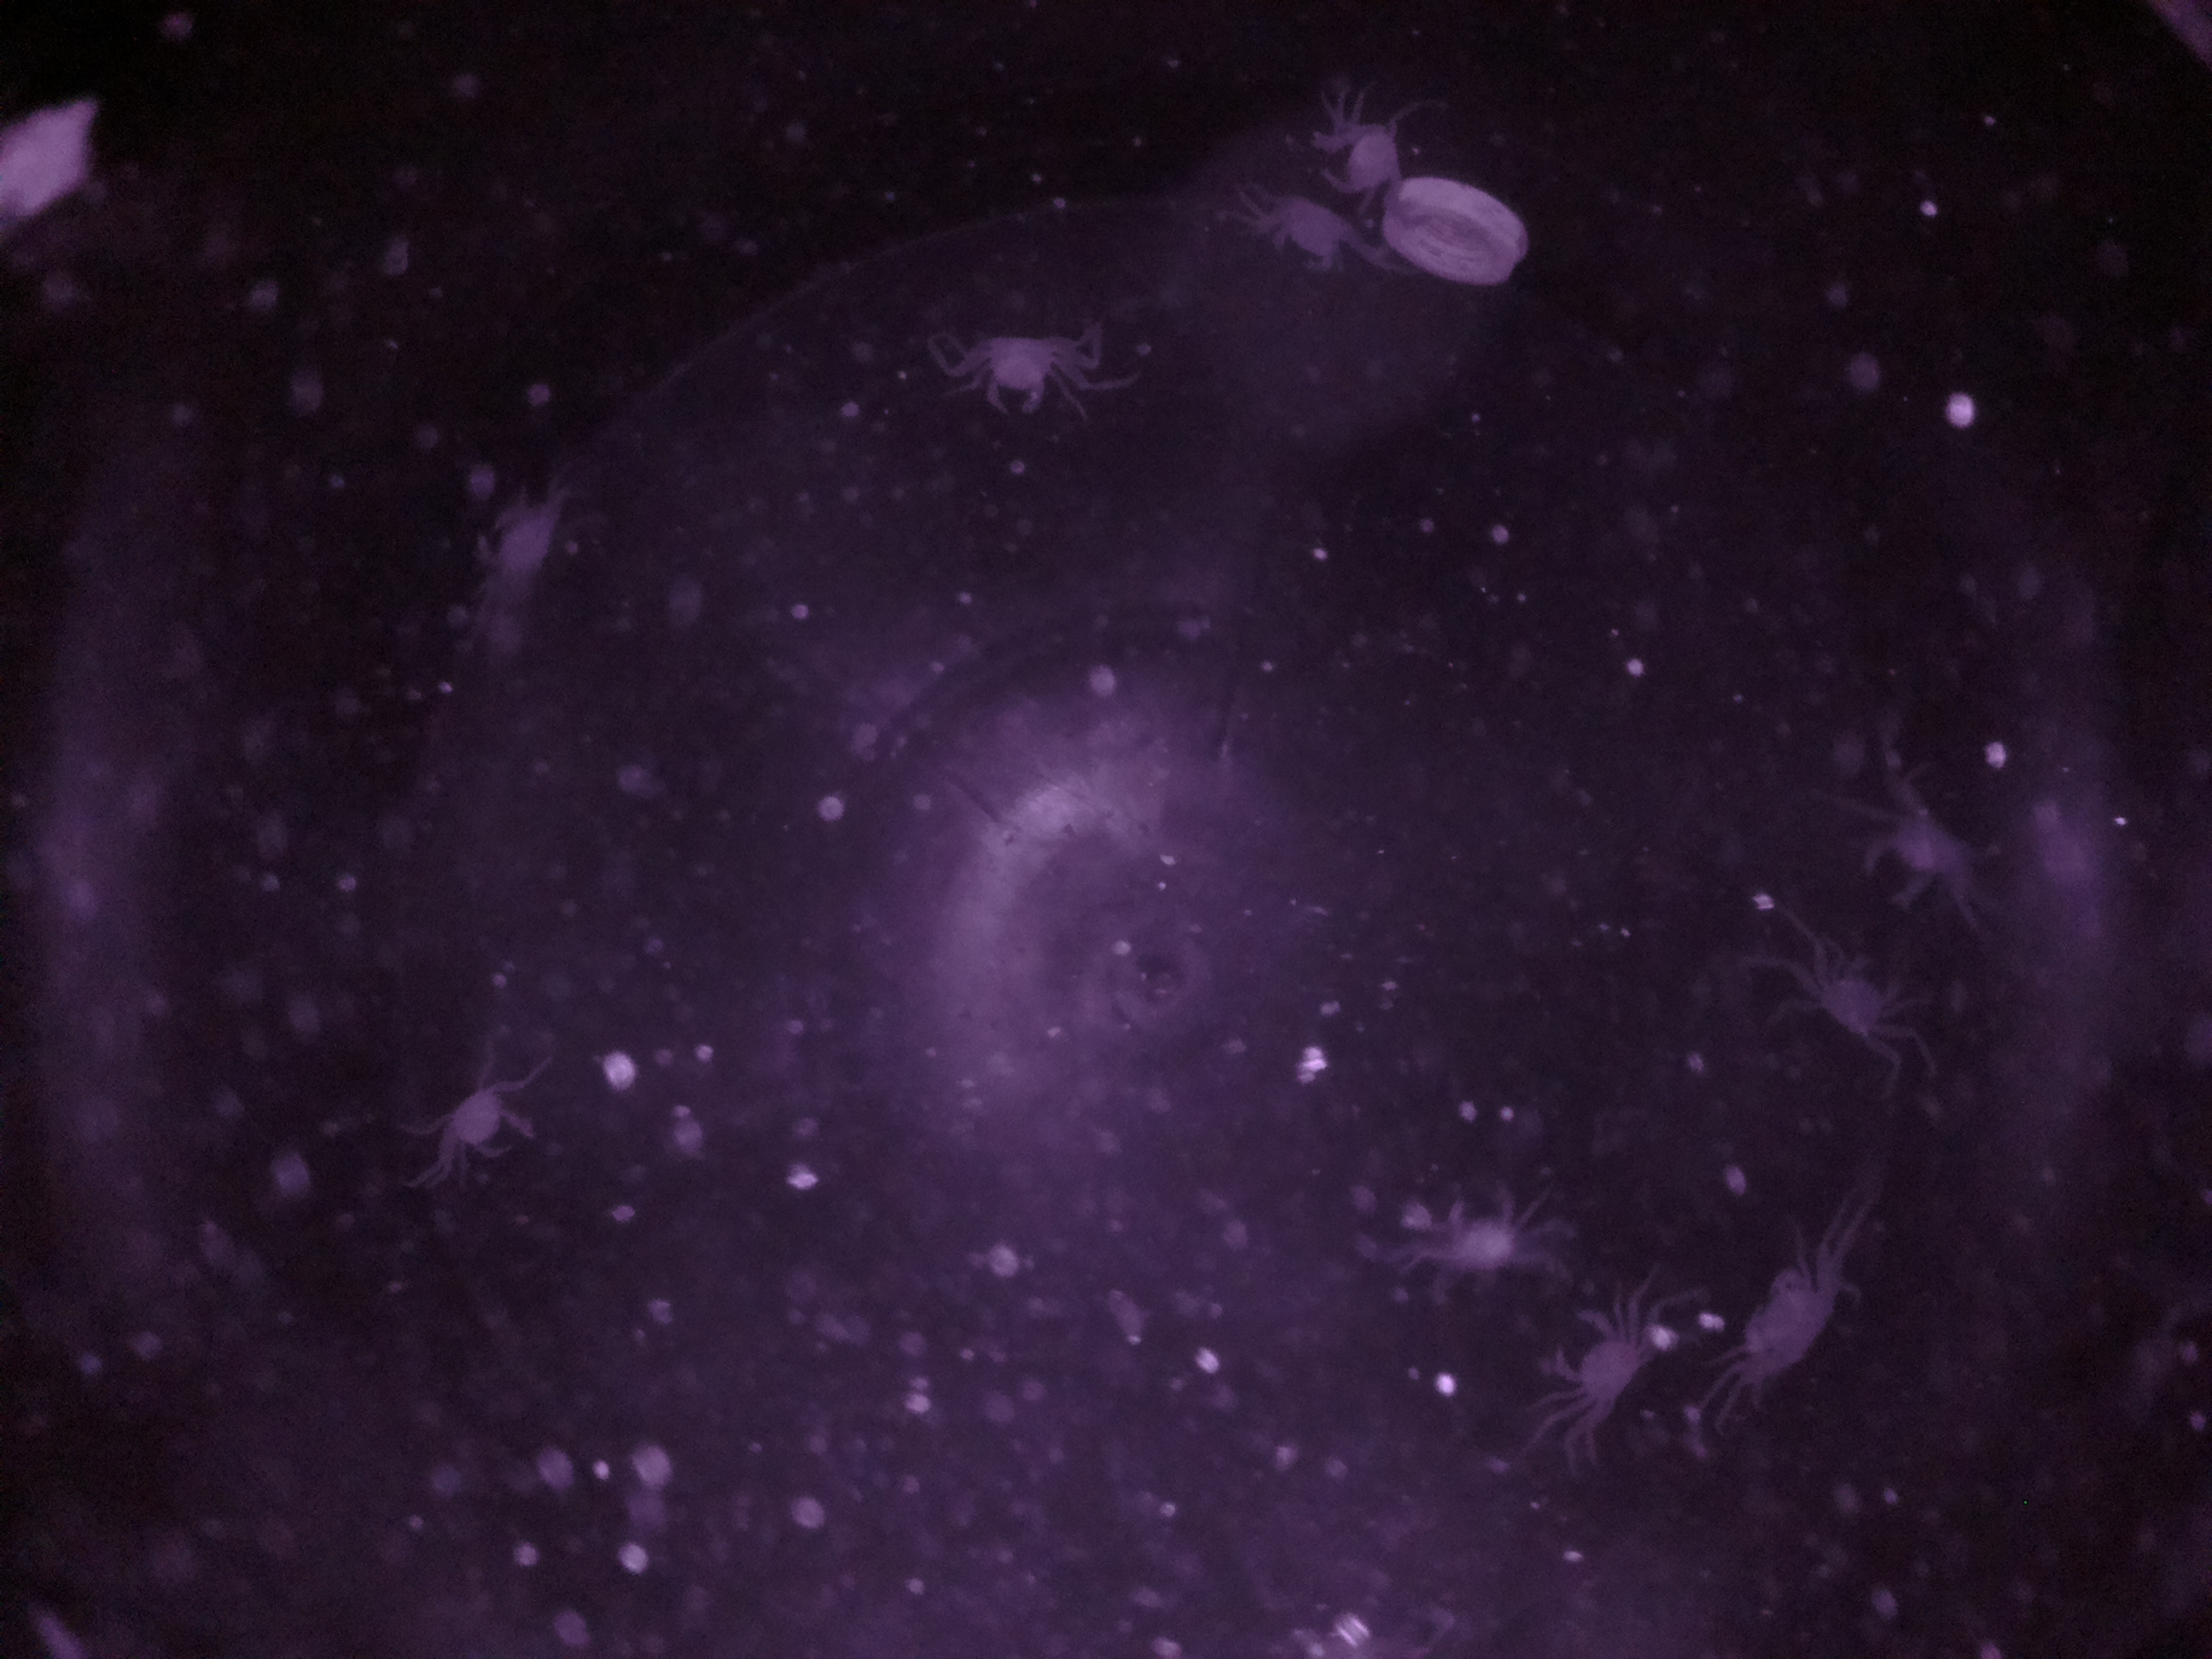Crab: (1808, 903, 1914, 1075), (1301, 85, 1433, 214), (1712, 1251, 1839, 1384), (1423, 1161, 1545, 1295), (420, 1061, 550, 1185), (460, 483, 580, 610), (1538, 1291, 1658, 1417), (960, 310, 1068, 429)
